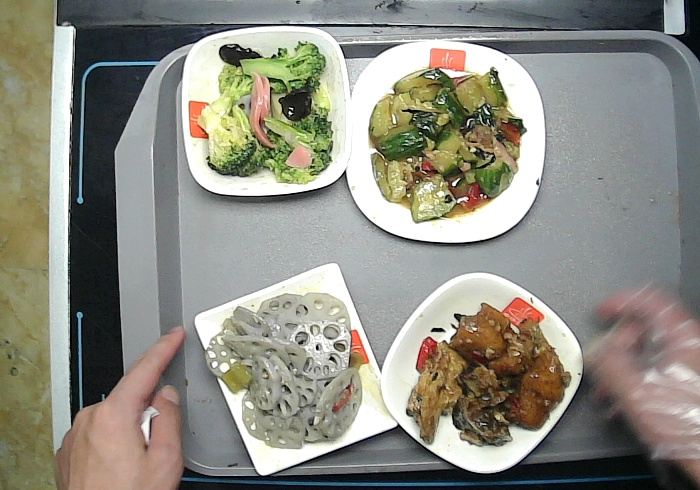SHKJ-Bai_Se_Cai_Die: (380, 270, 591, 475)
SHKJ-Bai_Se_Si_Fang_Cai_Die: (341, 37, 551, 247)
SHKJ-Bai_Se_Xiao_Fang_Die: (179, 25, 356, 200)
SHKJ-Si_Fang_Min: (192, 260, 404, 474)
